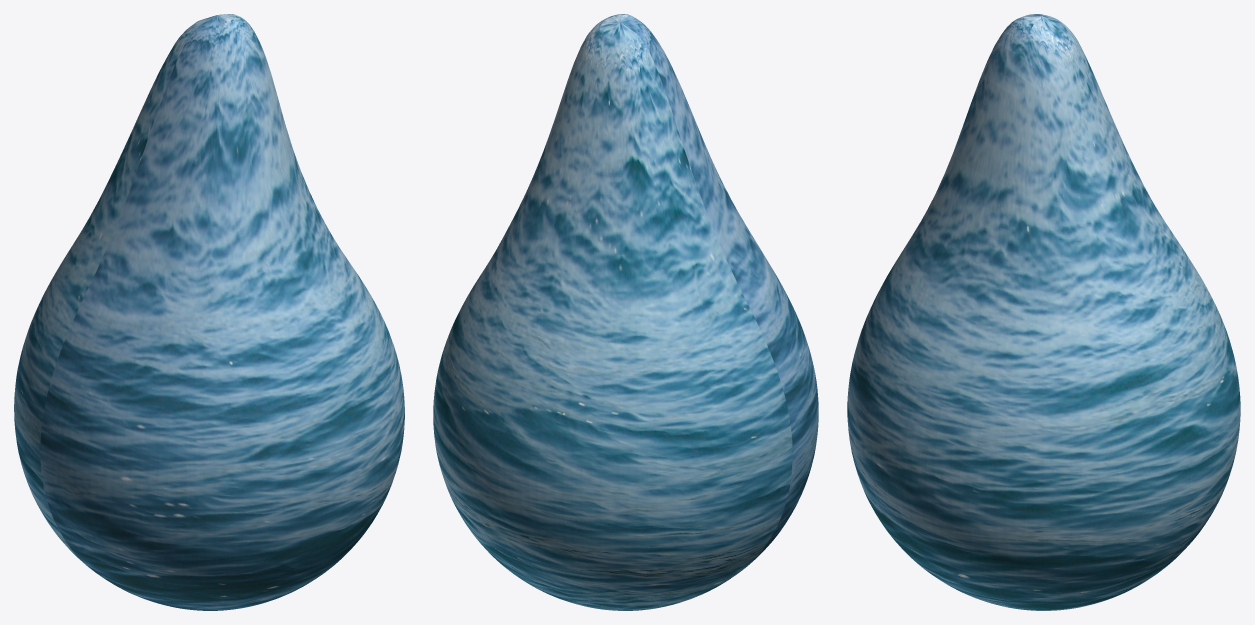
The model's file is raindrop.obj.
3 renders of one model, left to right at view 1: azimuth 30°, elevation 25°; view 2: azimuth 150°, elevation 25°; view 3: azimuth 270°, elevation 25°, orthographic.
Parts seen in each view (by area): view 1: Sphere; view 2: Sphere; view 3: Sphere.
Boxes of the visible parts, x1,y1,x2,y2 form: Sphere: (14, 14, 404, 610); Sphere: (433, 14, 818, 610); Sphere: (847, 14, 1240, 610).
Bounding box in the file's own units: 1.98 × 3.23 × 1.98.
1 material, 1 textured.
